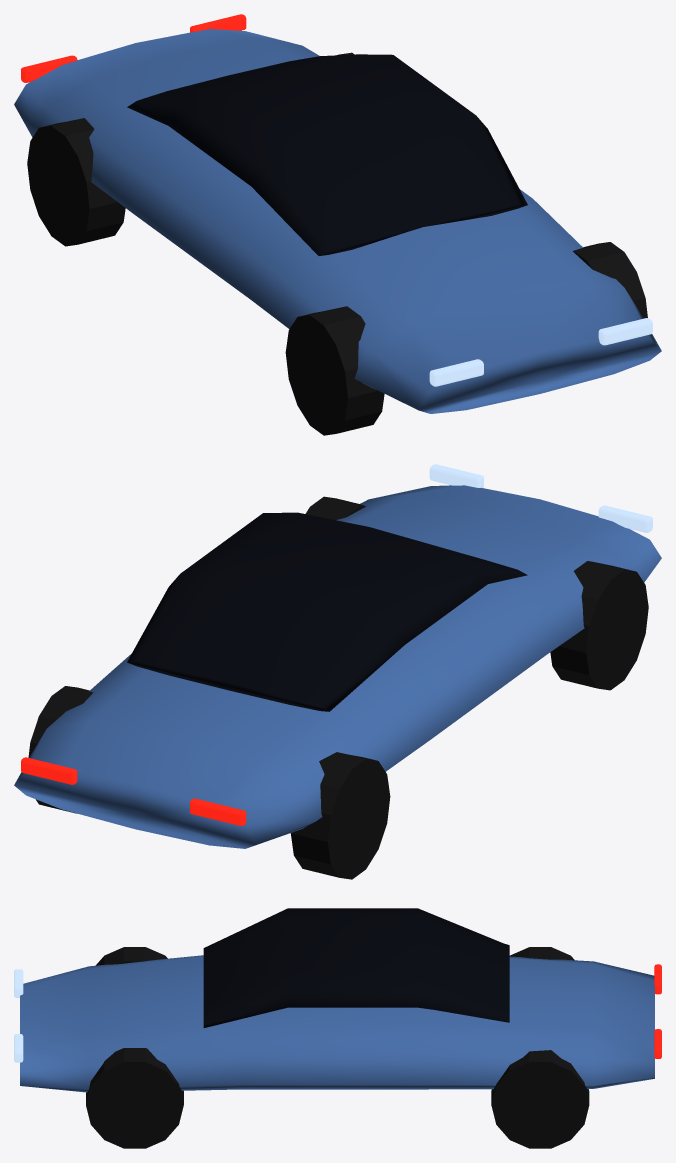
Rendered from sedan.glb.
The picture shows the model from 3 angles, top to bottom: view 1: azimuth 30°, elevation 25°; view 2: azimuth 150°, elevation 25°; view 3: azimuth 270°, elevation 25°; orthographic projection. The views are drawn at different scales.
Visible parts, largest first — view 1: SedanBody, SedanGlass, SWheel1, SWheel3, SWheel0, SHead.001, SHead, STail.001, STail; view 2: SedanBody, SedanGlass, SWheel3, SWheel1, SWheel2, STail.001, STail, SWheel0, SHead.001, SHead; view 3: SedanBody, SedanGlass, SWheel0, SWheel2, SWheel1, SWheel3.
Part boxes in pixels (x1=…): SedanBody: x1=14, y1=29, x2=661, y2=413; SedanGlass: x1=127, y1=54, x2=527, y2=255; SWheel1: x1=285, y1=306, x2=384, y2=435; SWheel3: x1=27, y1=118, x2=125, y2=246; SWheel0: x1=573, y1=242, x2=647, y2=318; SHead.001: x1=429, y1=359, x2=483, y2=386; SHead: x1=598, y1=318, x2=652, y2=345; STail.001: x1=21, y1=55, x2=77, y2=82; STail: x1=190, y1=14, x2=246, y2=32; SedanBody: x1=14, y1=485, x2=661, y2=848; SedanGlass: x1=127, y1=512, x2=527, y2=711; SWheel3: x1=290, y1=752, x2=390, y2=879; SWheel1: x1=550, y1=561, x2=648, y2=690; SWheel2: x1=28, y1=686, x2=92, y2=813; STail.001: x1=190, y1=798, x2=246, y2=825; STail: x1=21, y1=757, x2=77, y2=784; SWheel0: x1=305, y1=496, x2=365, y2=519; SHead.001: x1=598, y1=505, x2=652, y2=532; SHead: x1=429, y1=464, x2=483, y2=487; SedanBody: x1=20, y1=955, x2=654, y2=1092; SedanGlass: x1=203, y1=908, x2=509, y2=1027; SWheel0: x1=86, y1=1048, x2=183, y2=1148; SWheel2: x1=491, y1=1050, x2=589, y2=1148; SWheel1: x1=96, y1=947, x2=167, y2=965; SWheel3: x1=510, y1=947, x2=574, y2=960.
Bounding box in the file's own units: 1.78 × 1.09 × 4.23.
